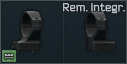Remington M700 30mm integral ring-mount: (0, 0, 127, 64)
